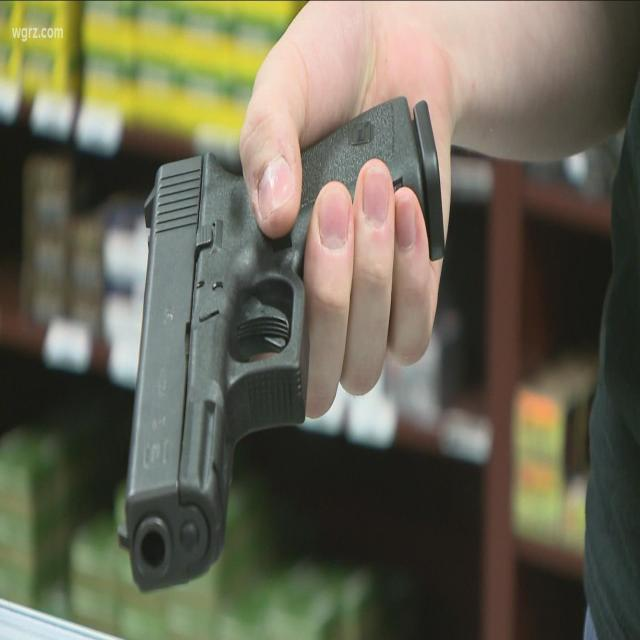pistol: (108, 76, 462, 618)
